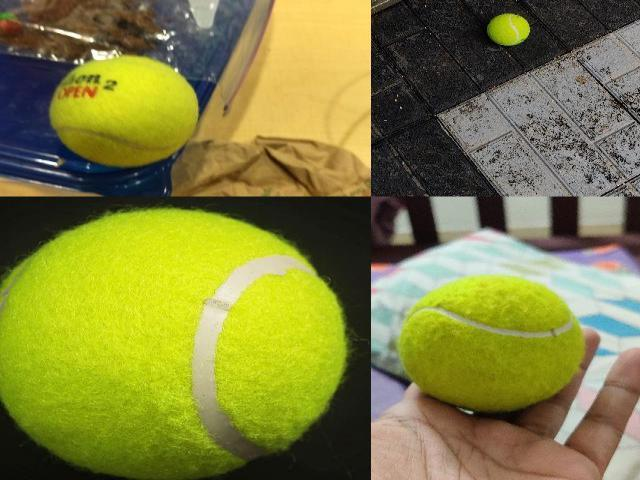tennis-ball: (0, 208, 350, 479), (396, 274, 586, 412), (48, 55, 198, 167), (486, 12, 530, 46)
